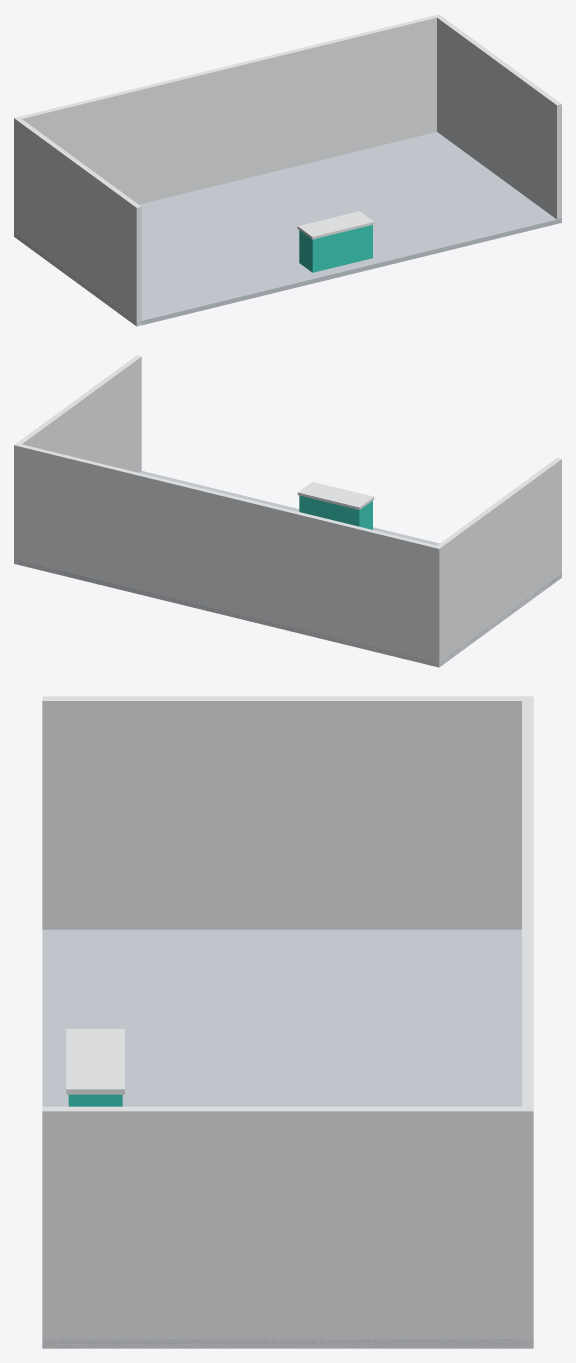
3 views of the same model, one above another, from view 1: azimuth 30°, elevation 25°; view 2: azimuth 150°, elevation 25°; view 3: azimuth 270°, elevation 25° (orthographic). The views are drawn at different scales.
Visible parts, largest first — view 1: Exhibition Booth Concept; view 2: Exhibition Booth Concept; view 3: Exhibition Booth Concept.
Part boxes in pixels (box(x1,y1,x2,y2)): Exhibition Booth Concept: box(14, 14, 561, 326); Exhibition Booth Concept: box(14, 355, 561, 667); Exhibition Booth Concept: box(42, 696, 533, 1348).
Bounding box in the file's own units: 12 × 3.2 × 6.
